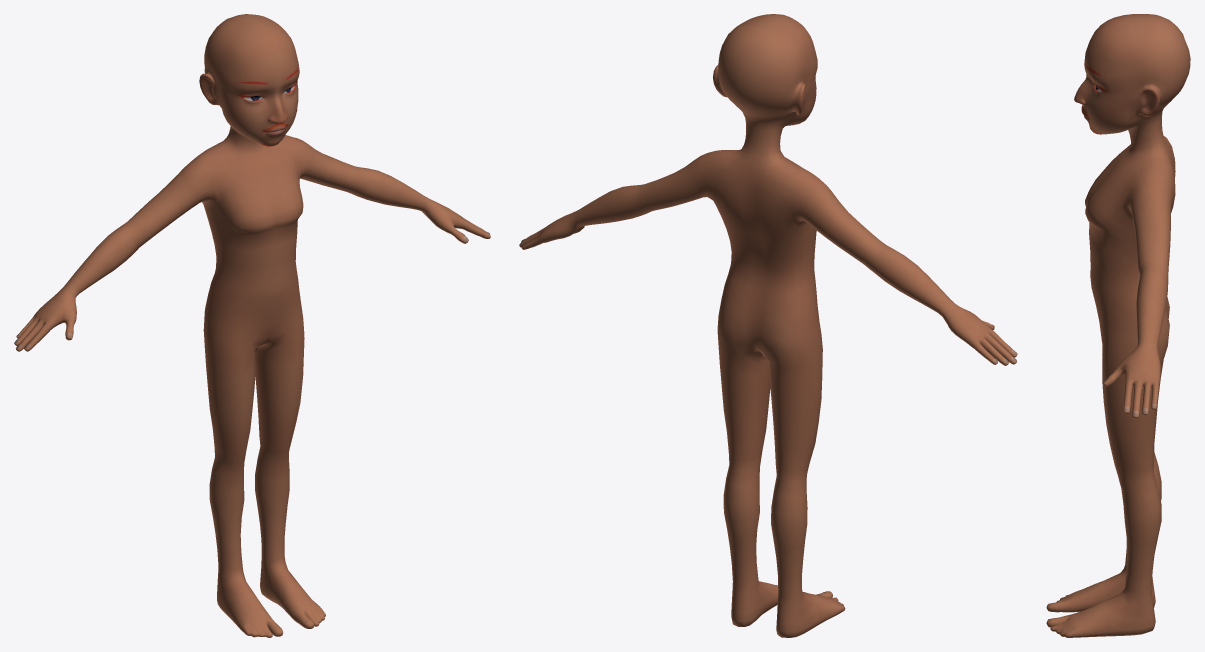
The model's file is frame_0093.glb.
3 renders of one model, left to right at view 1: azimuth 30°, elevation 25°; view 2: azimuth 150°, elevation 25°; view 3: azimuth 270°, elevation 25°, orthographic. The views are drawn at different scales.
Visible parts, largest first — view 1: frame_0093_head_geo; view 2: frame_0093_head_geo; view 3: frame_0093_head_geo.
Boxes of the visible parts, box(x1,y1,x2,y2) form: frame_0093_head_geo: box(14, 14, 490, 637); frame_0093_head_geo: box(519, 14, 1017, 637); frame_0093_head_geo: box(1046, 14, 1190, 637).
Size of the model in its own units: 1.28 by 1.5 by 0.3253.
Materials: 3 (3 with a texture image).
